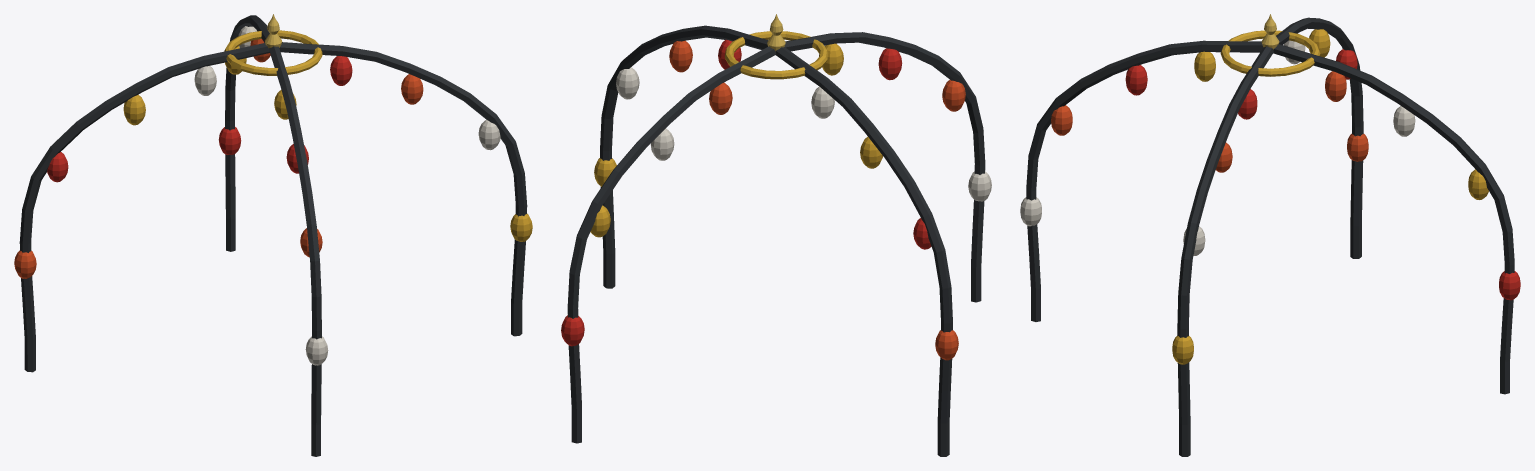
File: photay-hero.glb
3 views of the same model, side by side, from view 1: azimuth 30°, elevation 25°; view 2: azimuth 150°, elevation 25°; view 3: azimuth 270°, elevation 25° (orthographic). The views are drawn at different scales.
Visible parts, largest first — view 1: photay_hero_ornaments; view 2: photay_hero_ornaments; view 3: photay_hero_ornaments.
Part boxes in pixels (<box>): photay_hero_ornaments: <box>14,14,532,456</box>; photay_hero_ornaments: <box>561,14,991,456</box>; photay_hero_ornaments: <box>1020,14,1520,456</box>.
Bounding box in the file's own units: 10.44 × 7.86 × 10.42.
